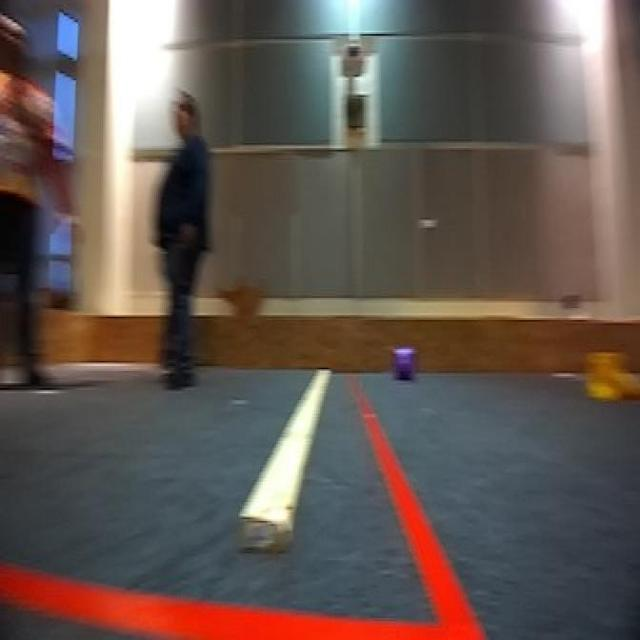frc_cone: (588, 351, 634, 402), (394, 348, 414, 382)
frc_cube: (394, 346, 414, 381)
